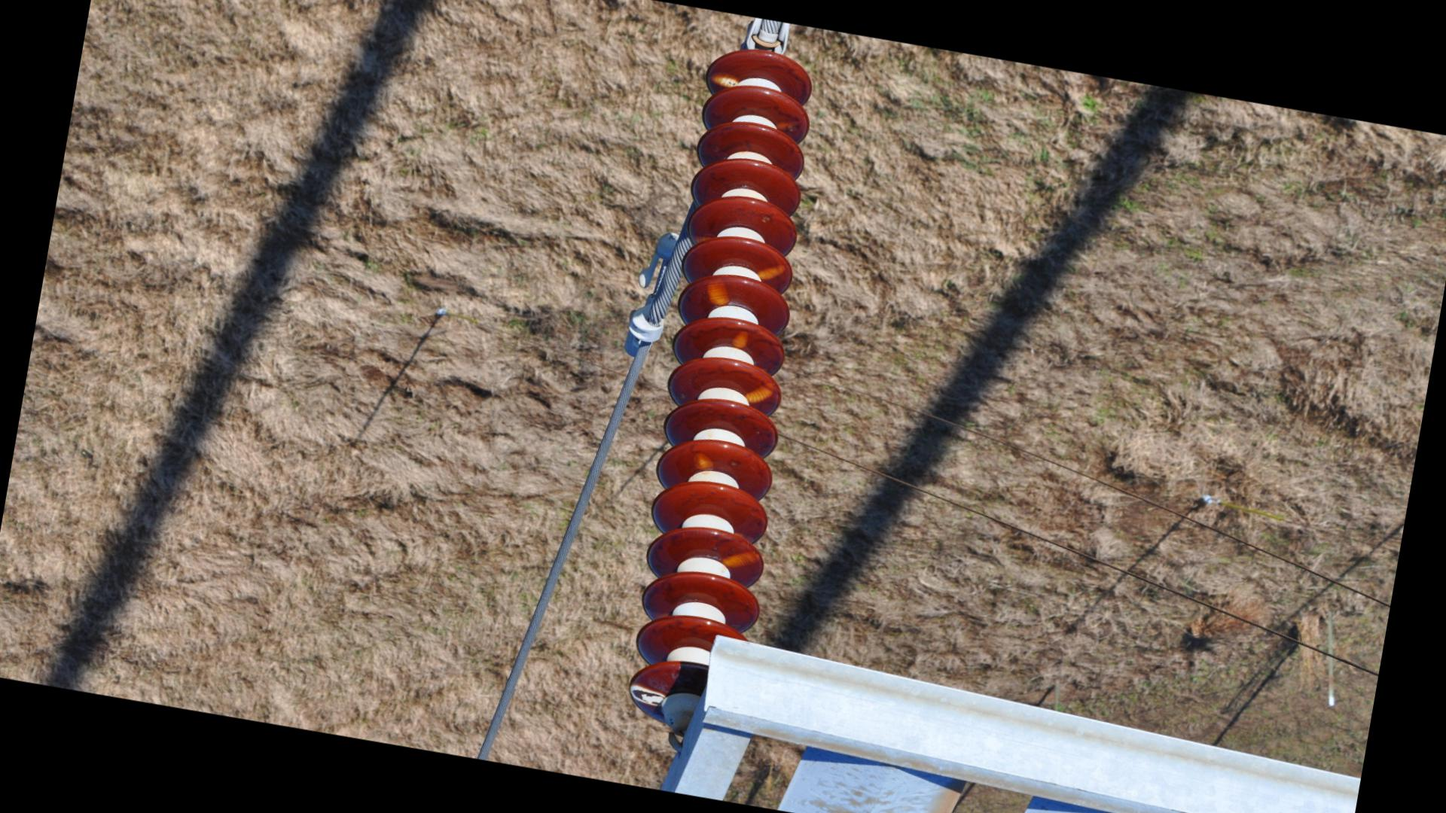damper: (615, 222, 686, 366)
